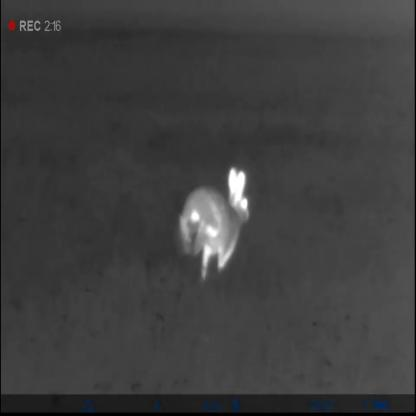rehkitze: (180, 160, 254, 285)
